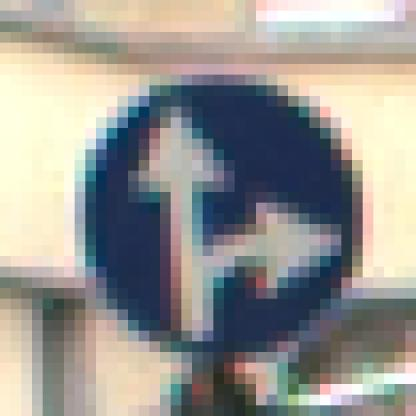Straight or Right: (65, 65, 364, 364)
